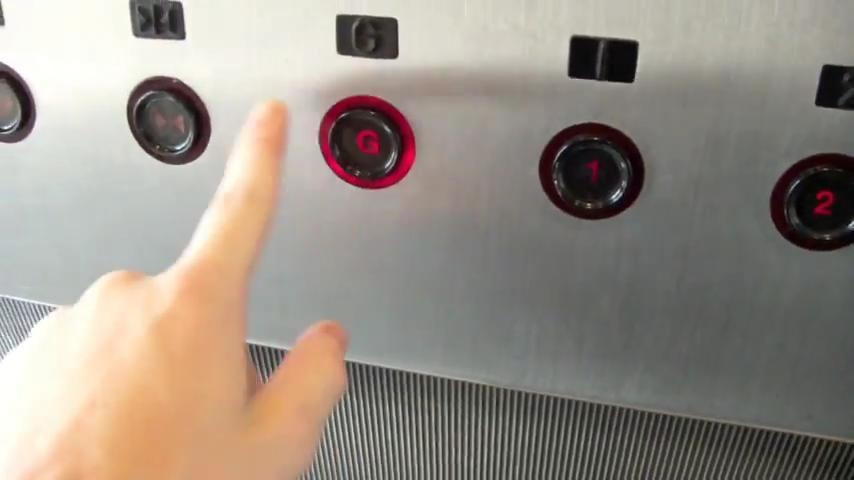1: (537, 120, 645, 223), (568, 34, 640, 84)
2: (769, 150, 854, 254)
G: (317, 93, 417, 192), (334, 13, 401, 62)
close: (126, 75, 212, 165), (127, 1, 187, 42)
